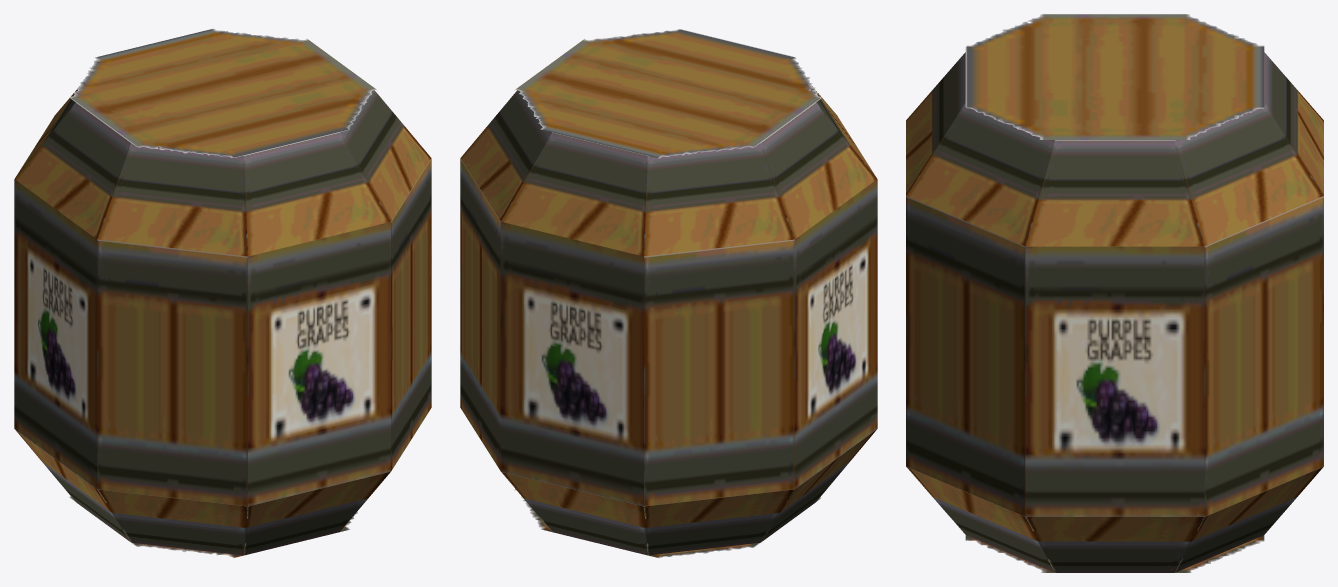
File: grape_seed_barrel.obj
The picture shows the model from 3 angles, left to right: view 1: azimuth 30°, elevation 25°; view 2: azimuth 150°, elevation 25°; view 3: azimuth 270°, elevation 25°; orthographic projection. The views are drawn at different scales.
Visible parts, largest first — view 1: grape_seed_barrel; view 2: grape_seed_barrel; view 3: grape_seed_barrel.
Part boxes in pixels (left/top/right/bottom): grape_seed_barrel: left=14, top=28, right=431, bottom=557; grape_seed_barrel: left=460, top=29, right=877, bottom=558; grape_seed_barrel: left=906, top=14, right=1323, bottom=572.
Bounding box in the file's own units: 0.875 × 1 × 0.875.
